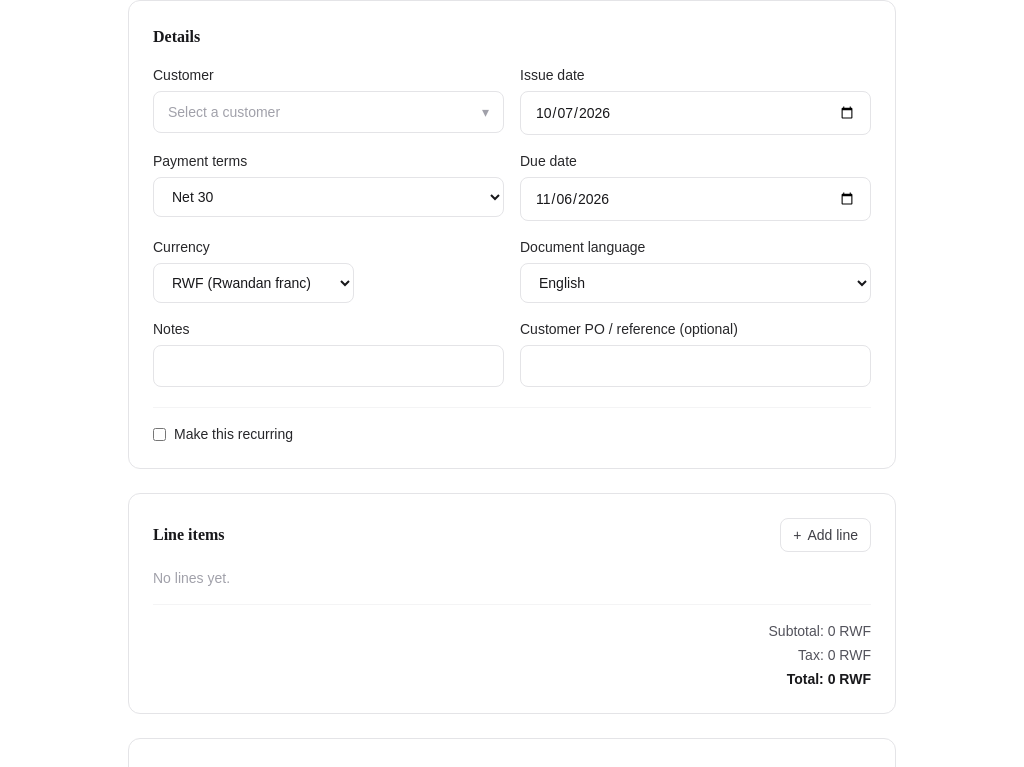
DocumentForm › adds and removes line items, updating the live total
expect the text "Subtotal: 0 RWF" is shown: met, box left=768, top=621, right=871, bottom=641
Click the button "+ Add line" at (826, 535), box left=780, top=518, right=871, bottom=552
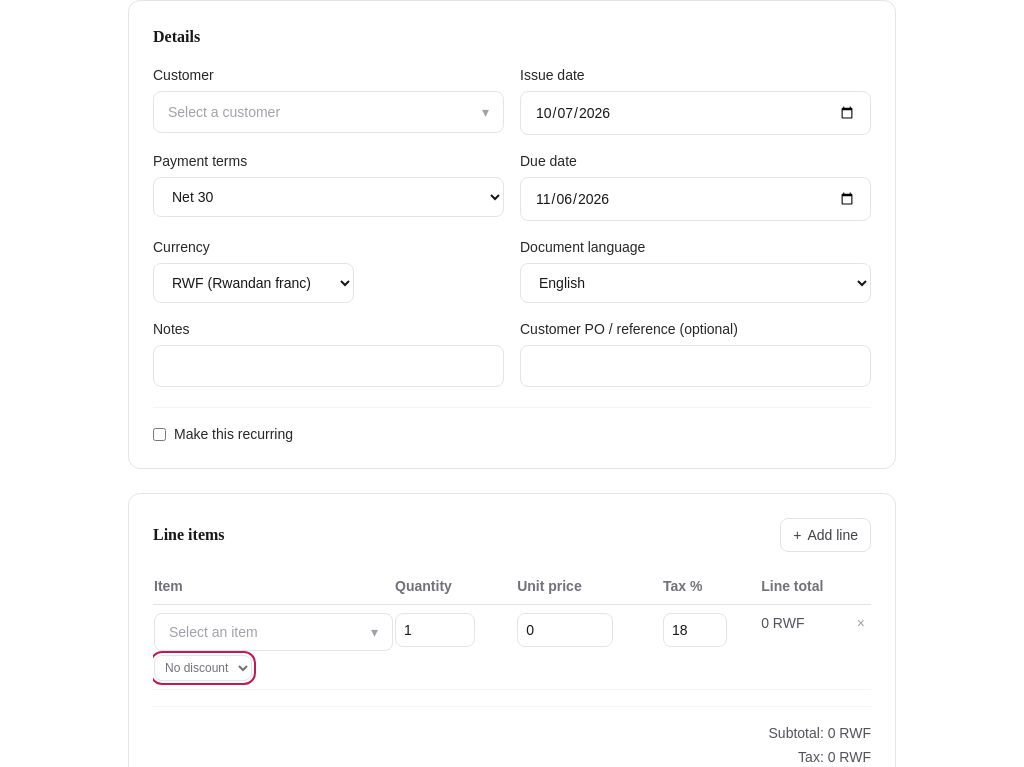
Replace the text in the number field named "quantity" with "2" at (435, 630), box left=395, top=613, right=475, bottom=647
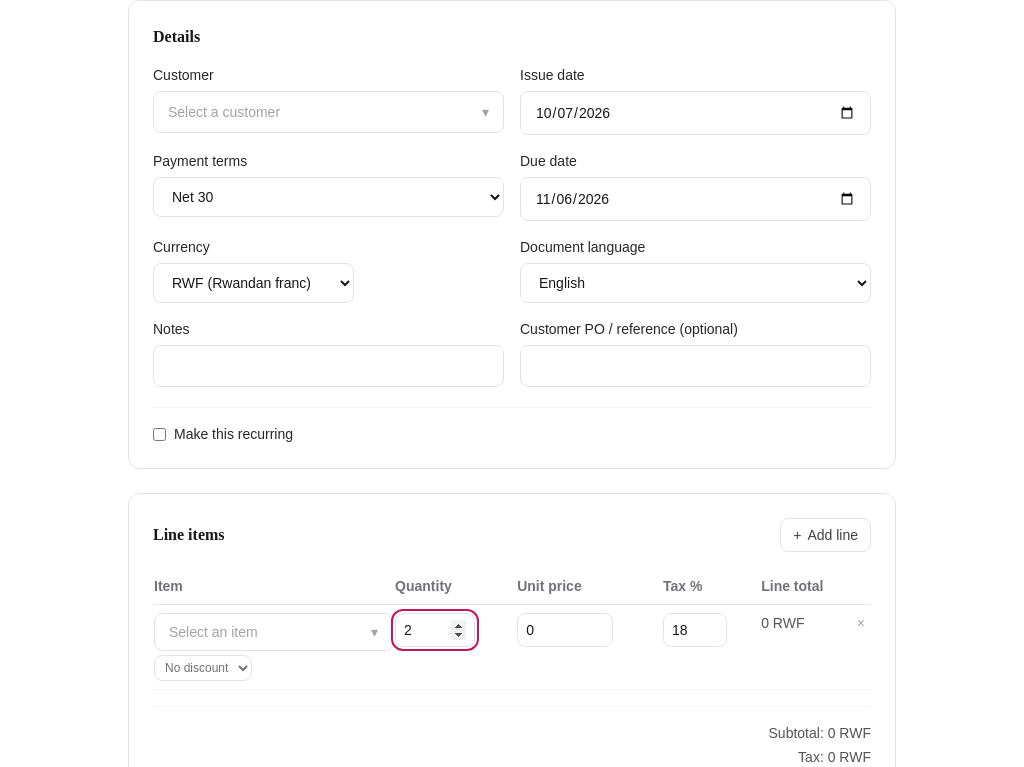
Replace the text in the number field named "unit price" with "5000" at (565, 630), box left=517, top=613, right=613, bottom=647
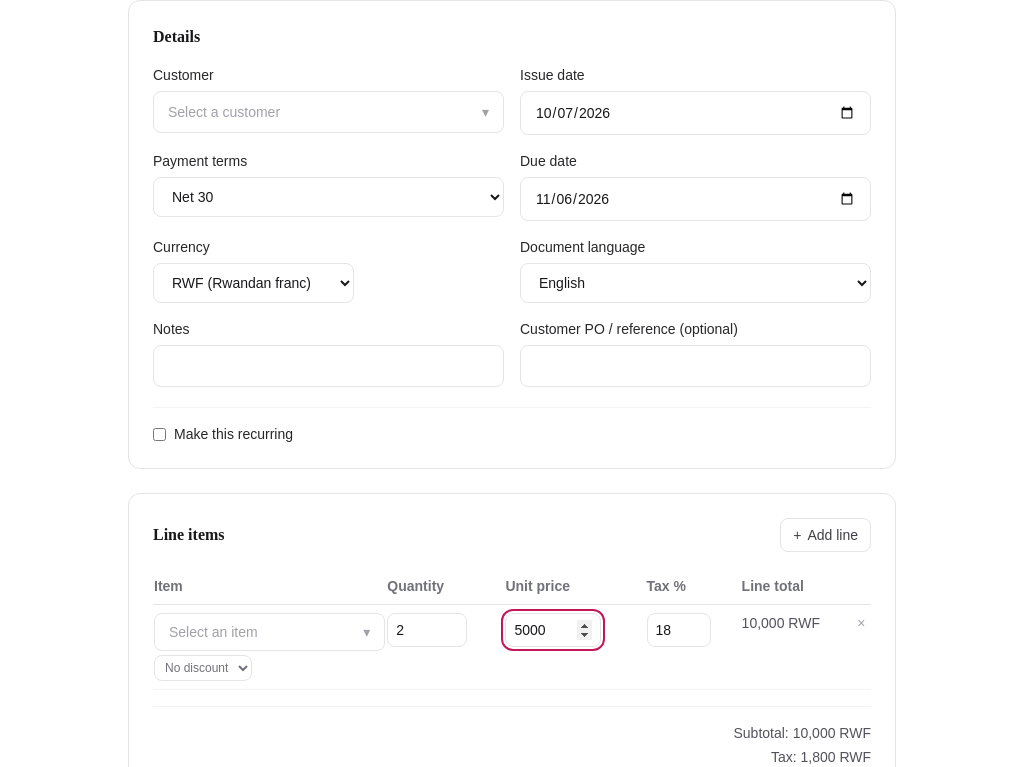
expect the text "Subtotal: 10,000 RWF" is shown: met, box left=734, top=723, right=871, bottom=743
Click the button named "remove line 1" at (861, 623), box left=857, top=613, right=866, bottom=633
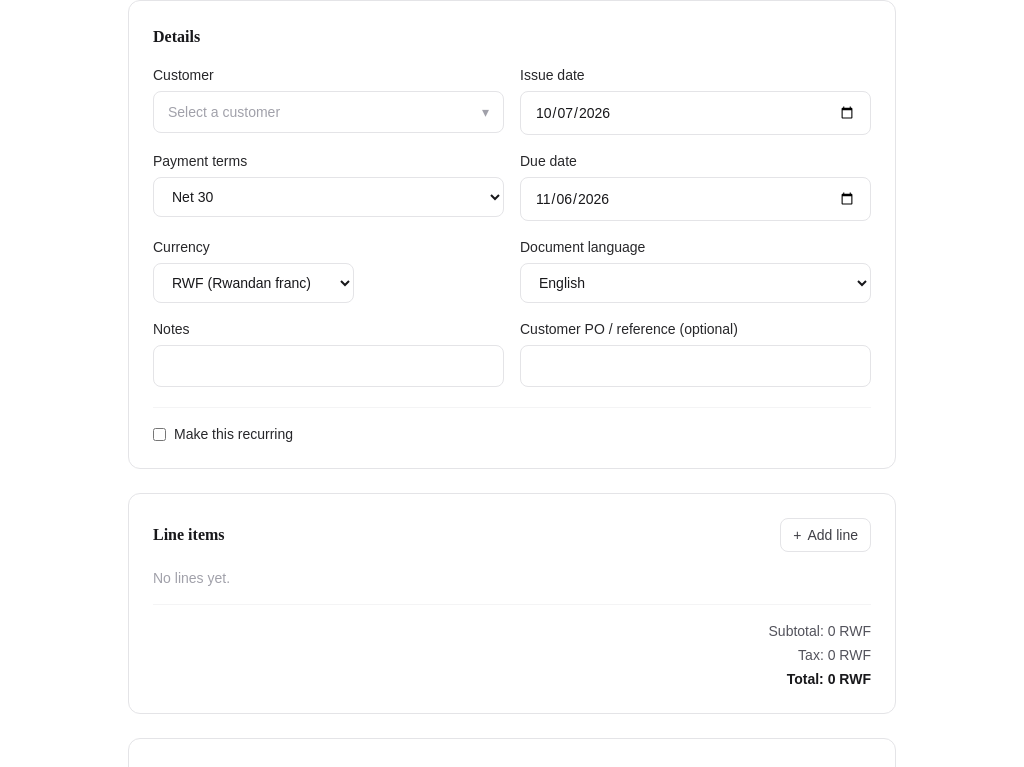
expect the text "Subtotal: 0 RWF" is shown: met, box left=768, top=621, right=871, bottom=641
